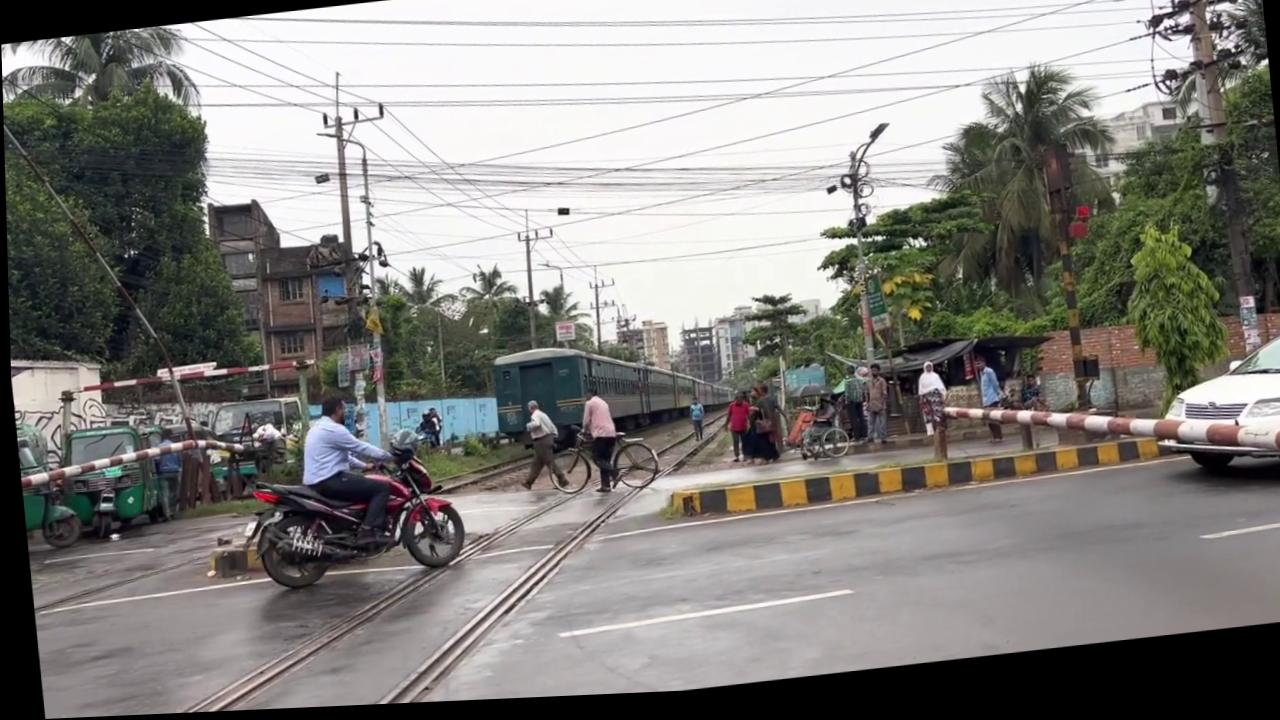Bollard: (1141, 339, 1280, 491)
Car: (662, 441, 1168, 527)
Curb: (231, 424, 465, 595)
Fence: (290, 390, 412, 556), (509, 400, 569, 497), (572, 389, 618, 498), (911, 367, 950, 471), (969, 361, 1005, 453), (685, 401, 704, 448), (1016, 383, 1038, 420)
Garbage: (1172, 0, 1262, 370), (1039, 152, 1092, 420)
Motorcycle: (78, 407, 756, 718)
Railroad-crossing: (1113, 224, 1232, 432)
Rickshaw: (12, 413, 78, 551)
